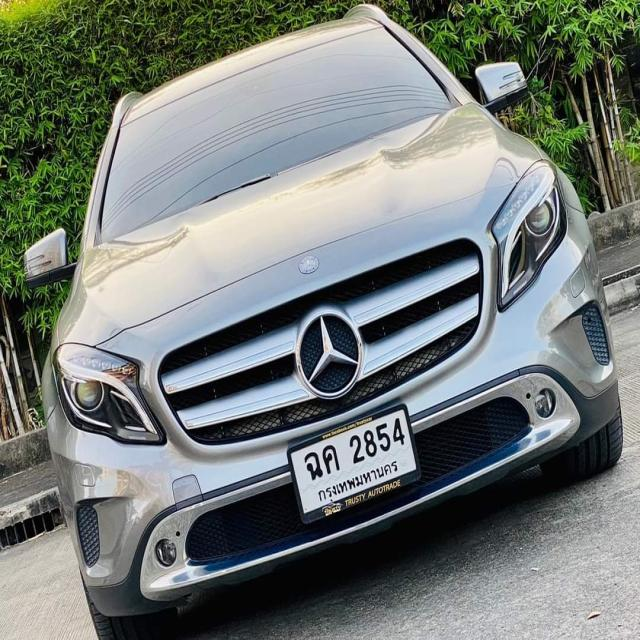license_plate: (286, 401, 419, 526)
